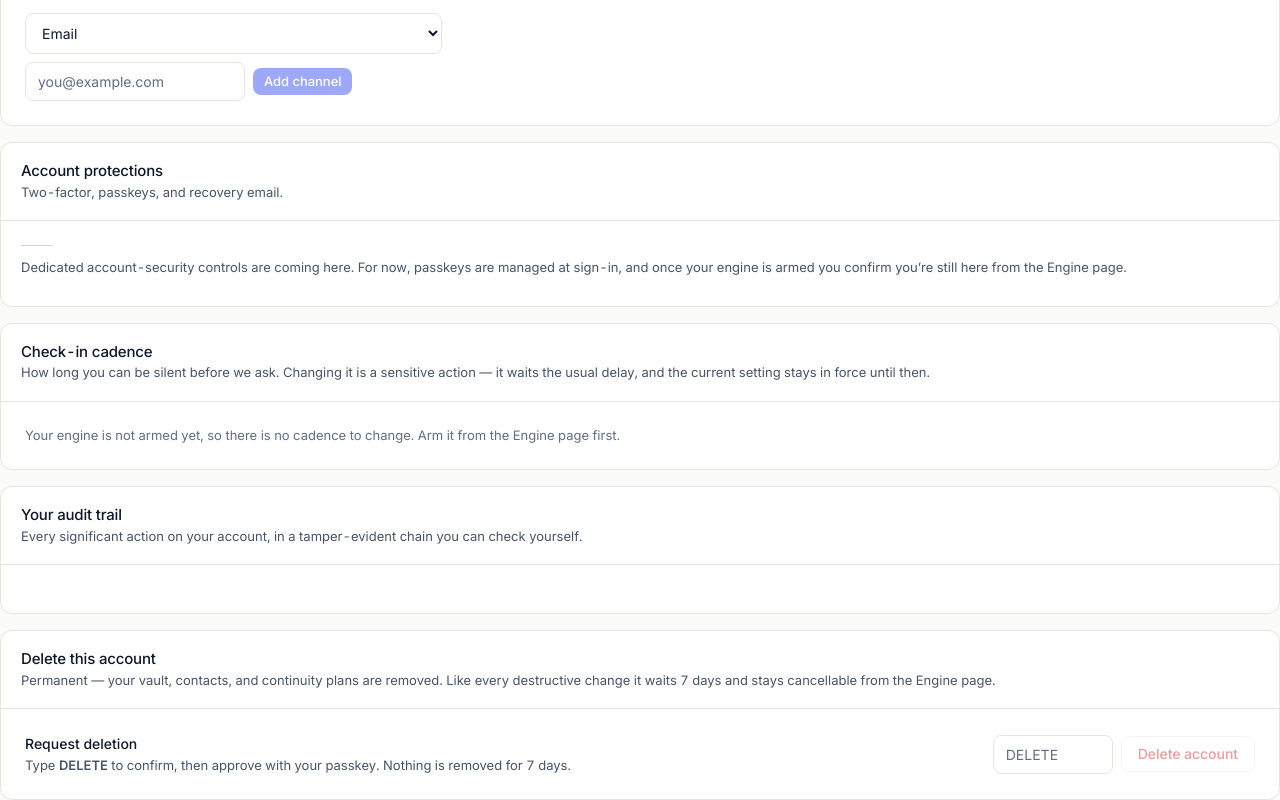
Test: Settings — delete account (QA Pass 3 Finding C) › keeps the button disabled until the exact word DELETE is typed
(page scrolled)
expect the button with test id "delete-account" is disabled: met, box [1121,736,1255,772]
Type "delete" into the field with test id "delete-confirm" at (1053, 754), box [993,735,1113,774]
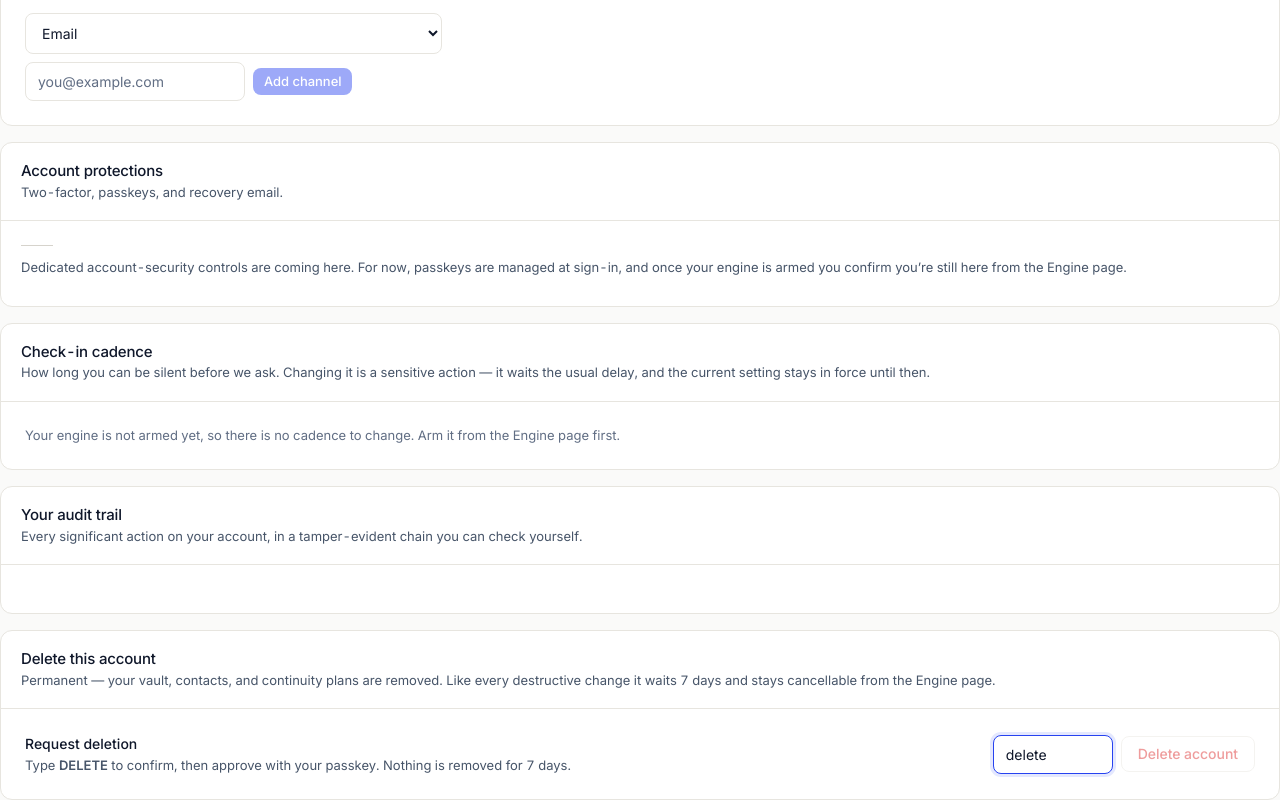
expect the button with test id "delete-account" is disabled: met, box [1121,736,1255,772]
Replace the text in the field with test id "delete-confirm" with "DELETE" at (1053, 754), box [993,735,1113,774]
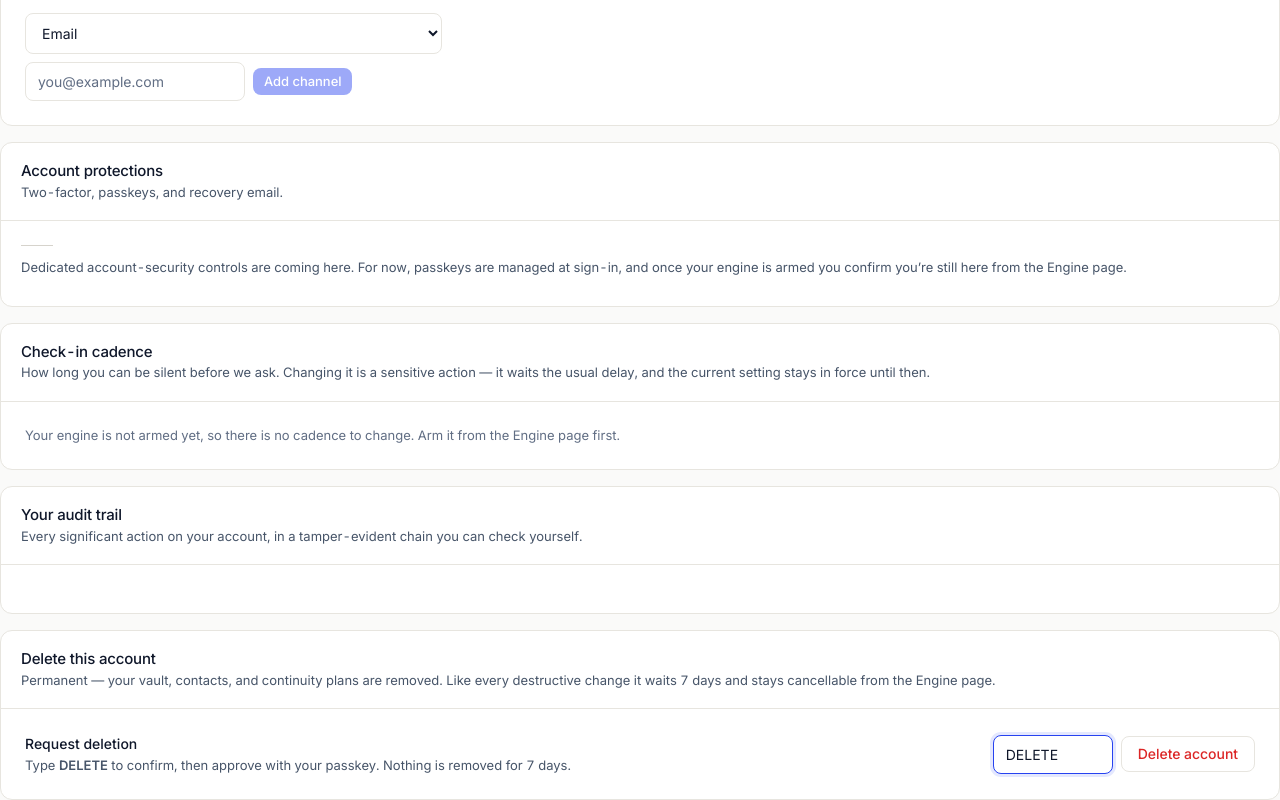
expect the button with test id "delete-account" is enabled: met, box [1121,736,1255,772]
